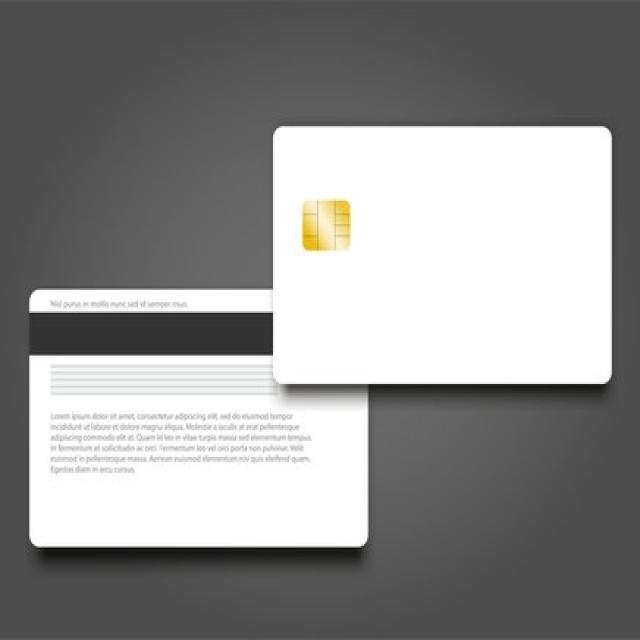payment_card: (271, 123, 613, 386), (27, 287, 370, 549)
